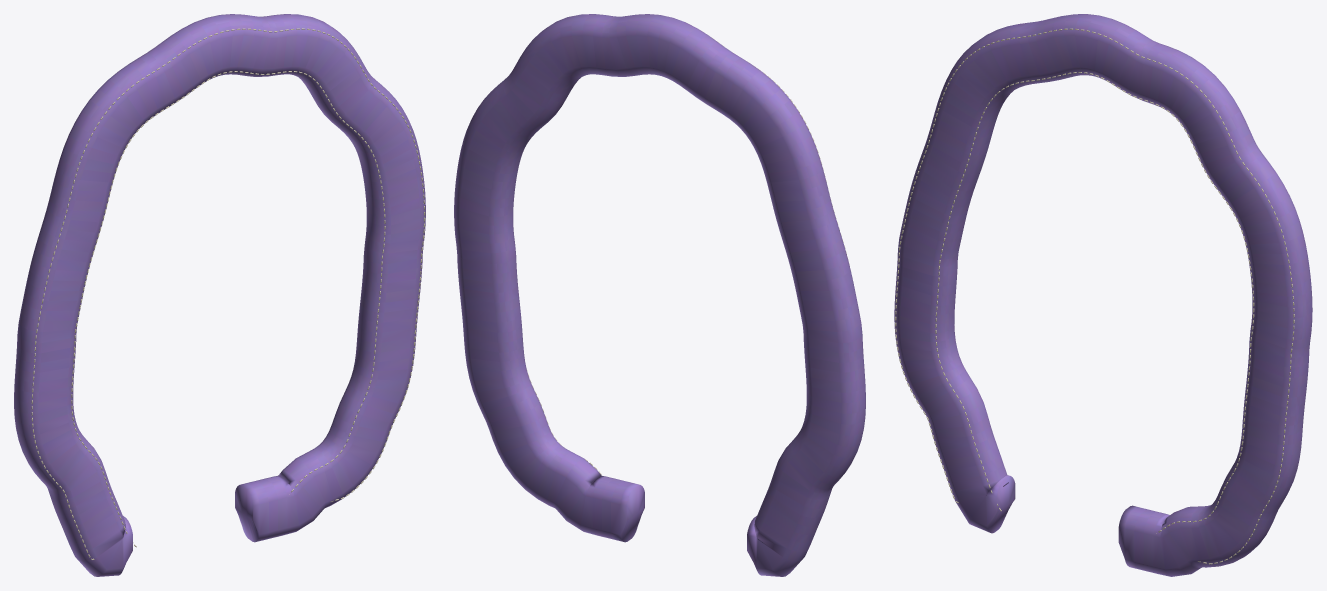
Rendered from W3_FeltArch.fbx.
The picture shows the model from 3 angles, left to right: view 1: azimuth 30°, elevation 25°; view 2: azimuth 150°, elevation 25°; view 3: azimuth 330°, elevation 25°; orthographic projection.
Visible parts, largest first — view 1: W3_FeltArch; view 2: W3_FeltArch; view 3: W3_FeltArch.
Part boxes in pixels (x1,y1,x2,y2): W3_FeltArch: (14, 14, 425, 576); W3_FeltArch: (454, 14, 865, 576); W3_FeltArch: (894, 14, 1312, 576).
Size of the model in its own units: 1.96 by 2.45 by 0.1545.
